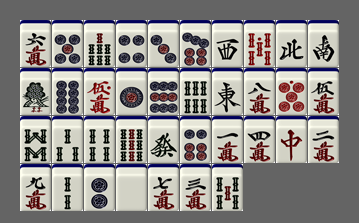0m: (84, 68, 115, 115)
0p: (276, 68, 307, 115)
0s: (244, 20, 275, 67)
1m: (212, 116, 243, 163)
1p: (116, 68, 147, 115)
1s: (20, 68, 51, 115)
1z: (212, 68, 243, 115)
2m: (308, 116, 339, 163)
2p: (84, 164, 115, 211)
2s: (52, 164, 83, 211)
2z: (308, 20, 339, 67)
3m: (180, 164, 211, 211)
3p: (148, 20, 179, 67)
3s: (52, 116, 83, 163)
3z: (212, 20, 243, 67)
4m: (244, 116, 275, 163)
4p: (116, 20, 147, 67)
4s: (84, 116, 115, 163)
4z: (276, 20, 307, 67)
5m: (308, 68, 339, 115)
5p: (52, 20, 83, 67)
5s: (212, 164, 243, 211)
5z: (116, 164, 147, 211)
6m: (20, 20, 51, 67)
6p: (180, 116, 211, 163)
6s: (180, 68, 211, 115)
6z: (148, 116, 179, 163)
7m: (148, 164, 179, 211)
7p: (180, 20, 211, 67)
7s: (84, 20, 115, 67)
7z: (276, 116, 307, 163)
8m: (244, 68, 275, 115)
8p: (52, 68, 83, 115)
8s: (20, 116, 51, 163)
9m: (20, 164, 51, 211)
9p: (148, 68, 179, 115)
9s: (116, 116, 147, 163)
